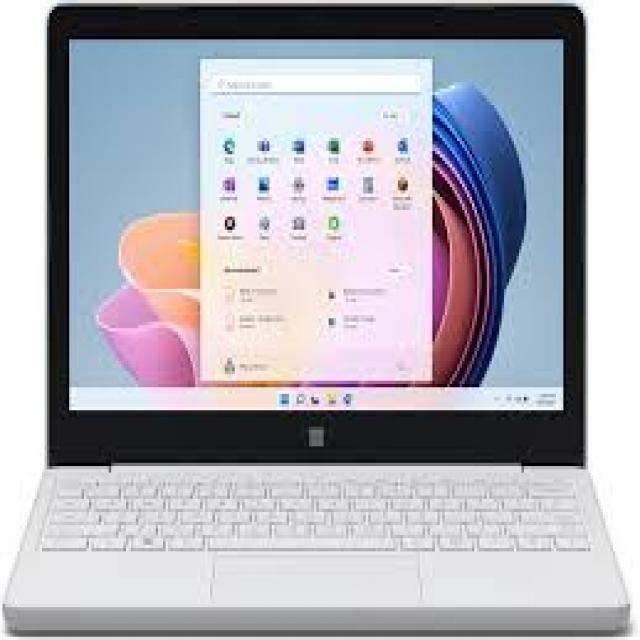others: (5, 3, 623, 620)
